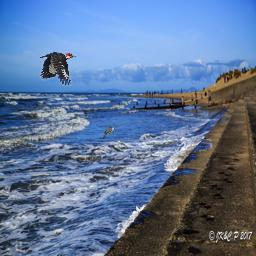Cuckoo: (103, 127, 115, 139)
Woodpecker: (38, 52, 76, 86)
